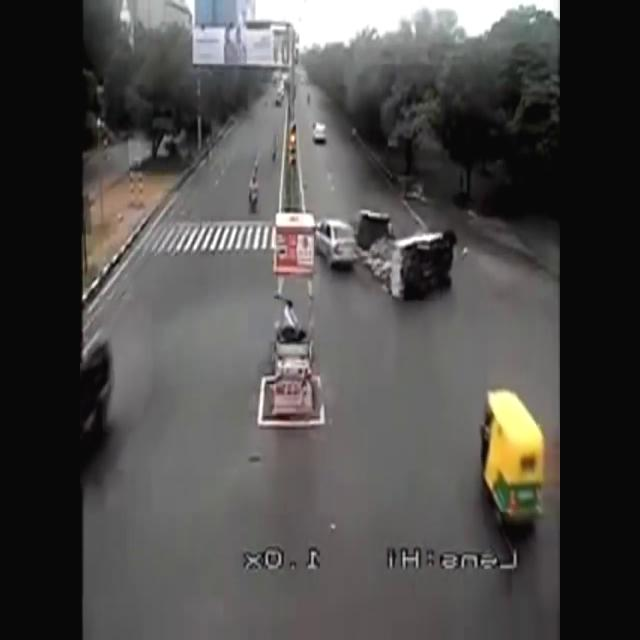accident: (312, 206, 464, 304)
